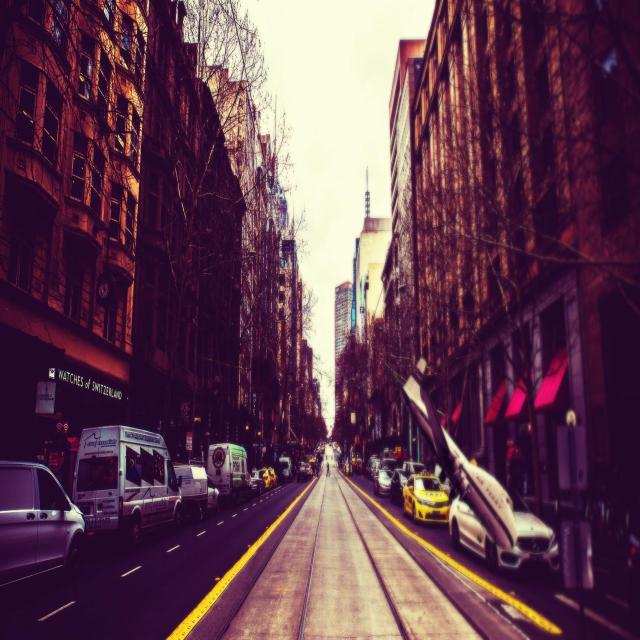airplane: (386, 354, 518, 553)
